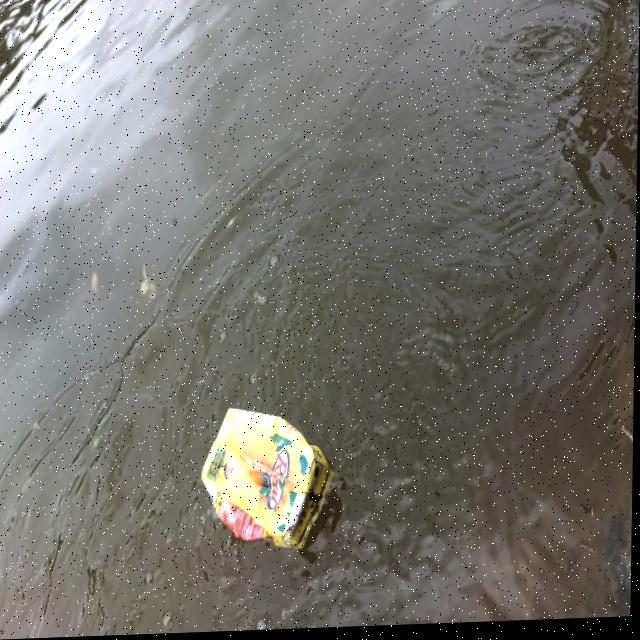paper: (200, 406, 345, 570)
